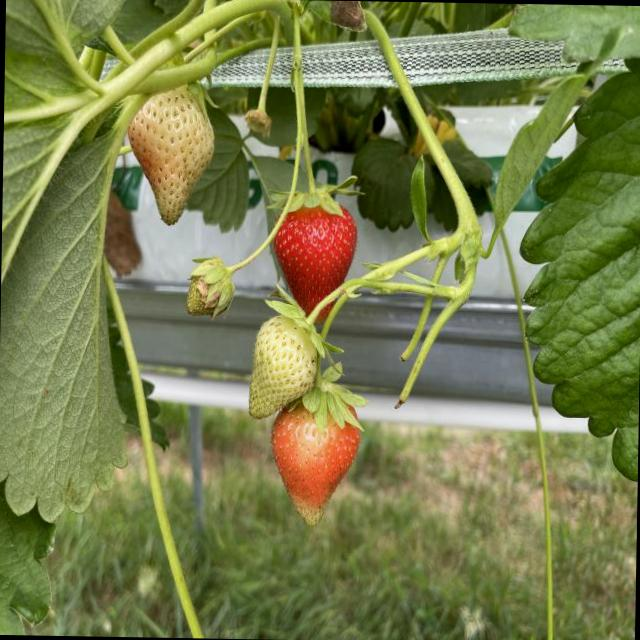strawberryNR: (128, 86, 212, 224)
strawberryR: (274, 407, 359, 526), (273, 208, 356, 315)
